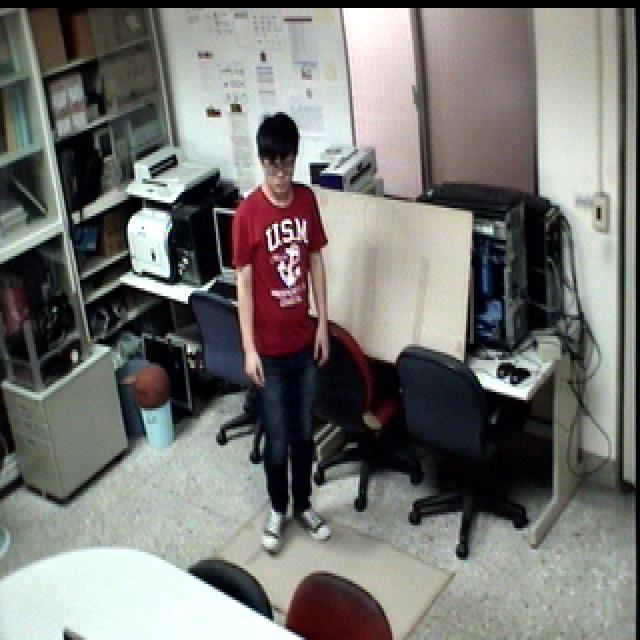stand: (226, 109, 344, 562)
